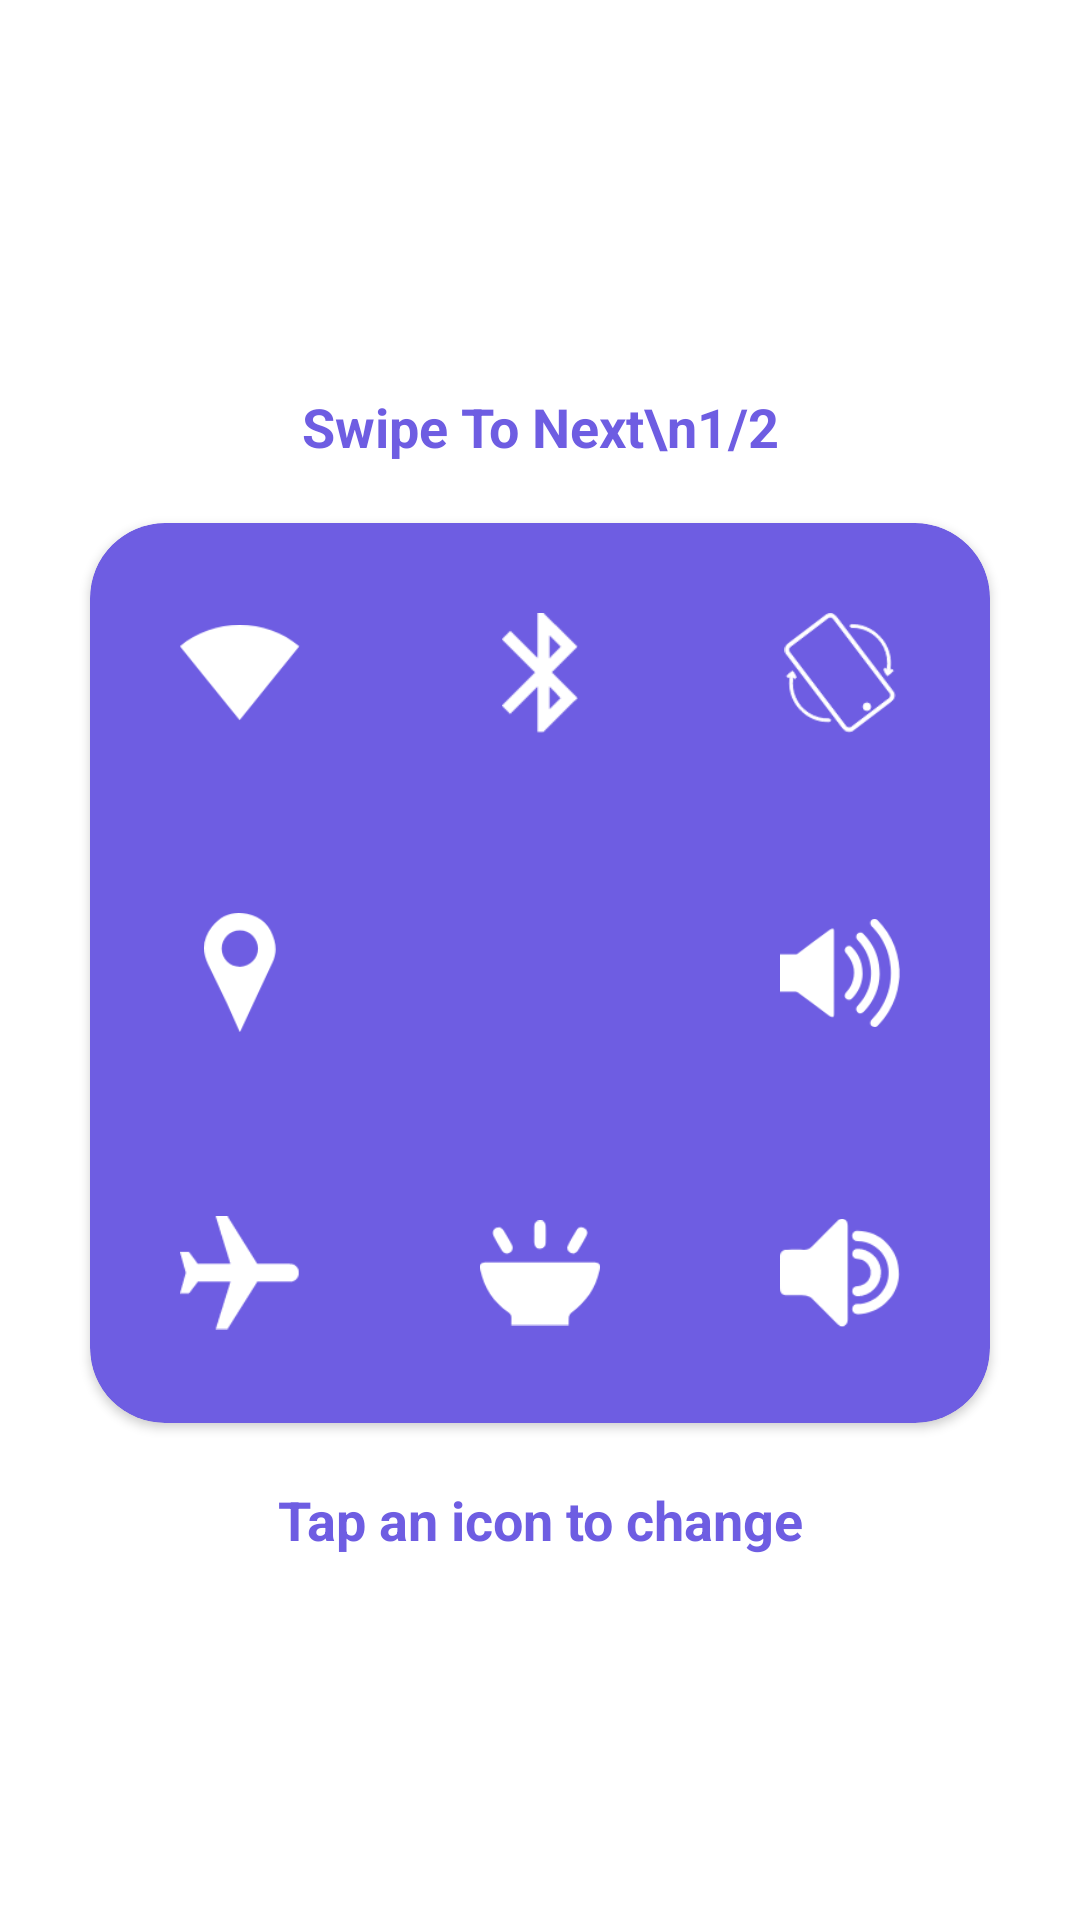

Icons on this 1080px x 1920px Android screen, each with the point to tap as (x,y):
airplane: (239,1273)
location: (240,972)
portrait: (840,673)
sound down: (839,1273)
sound up: (840,973)
wifi: (239,672)
